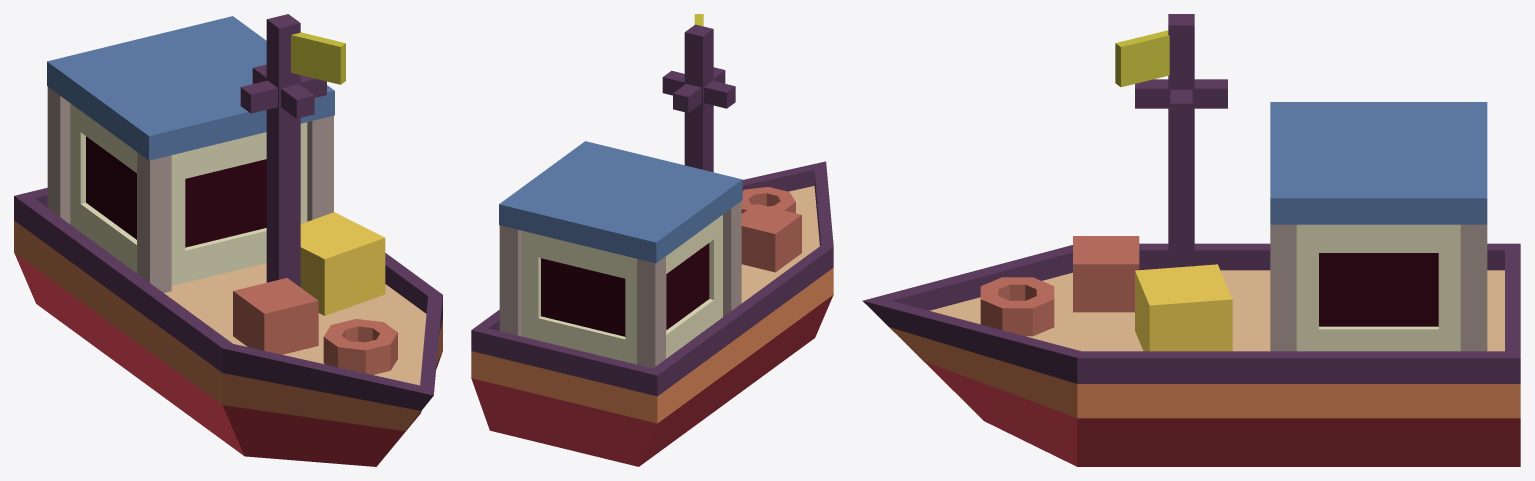
File: boat_form.glb
3 renders of one model, left to right at view 1: azimuth 30°, elevation 25°; view 2: azimuth 150°, elevation 25°; view 3: azimuth 270°, elevation 25°, orthographic. The views are drawn at different scales.
Visible parts, largest first — view 1: Hull, Cabin, Roof, Mast, CrateA, CrateB, PostFL, Coil, PostBL, PostFR, Flag, SparX (+1 smaller); view 2: Hull, Roof, Cabin, Mast, CrateB, PostBL, PostBR, PostFL, SparX, Coil, SparY; view 3: Hull, Roof, Cabin, CrateA, Mast, CrateB, Coil, PostBR, PostFR, Flag, SparY, SparX.
Part boxes in pixels (bbox=[...]): Hull: bbox=[14, 187, 442, 466]; Cabin: bbox=[70, 103, 307, 285]; Roof: bbox=[47, 16, 334, 160]; Mast: bbox=[266, 14, 300, 286]; CrateA: bbox=[300, 212, 385, 315]; CrateB: bbox=[233, 278, 318, 354]; PostFL: bbox=[137, 152, 171, 292]; Coil: bbox=[323, 319, 397, 374]; PostBL: bbox=[47, 87, 70, 224]; PostFR: bbox=[307, 115, 333, 221]; Flag: bbox=[291, 32, 345, 84]; SparX: bbox=[240, 75, 326, 113]; Hull: bbox=[471, 161, 833, 466]; Roof: bbox=[499, 141, 742, 263]; Cabin: bbox=[522, 215, 722, 364]; Mast: bbox=[684, 24, 713, 172]; CrateB: bbox=[741, 203, 801, 272]; PostBL: bbox=[637, 256, 665, 368]; PostBR: bbox=[499, 225, 522, 336]; PostFL: bbox=[723, 201, 741, 316]; SparX: bbox=[662, 70, 735, 108]; Coil: bbox=[741, 187, 795, 213]; SparY: bbox=[673, 67, 725, 112]; Hull: bbox=[862, 243, 1520, 466]; Roof: bbox=[1270, 102, 1487, 224]; Cabin: bbox=[1296, 224, 1460, 351]; CrateA: bbox=[1135, 264, 1232, 351]; Mast: bbox=[1168, 14, 1194, 267]; CrateB: bbox=[1073, 236, 1139, 312]; Coil: bbox=[980, 277, 1054, 336]; PostBR: bbox=[1460, 224, 1487, 351]; PostFR: bbox=[1270, 224, 1296, 351]; Flag: bbox=[1115, 30, 1169, 87]; SparY: bbox=[1135, 79, 1227, 108]; SparX: bbox=[1170, 89, 1192, 123].
Size of the model in its own units: 1.22 by 2 by 2.97.
